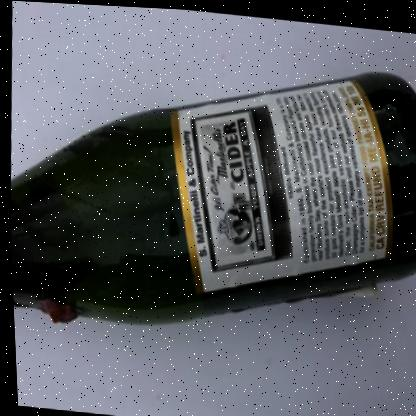Glass: (7, 67, 416, 321)
